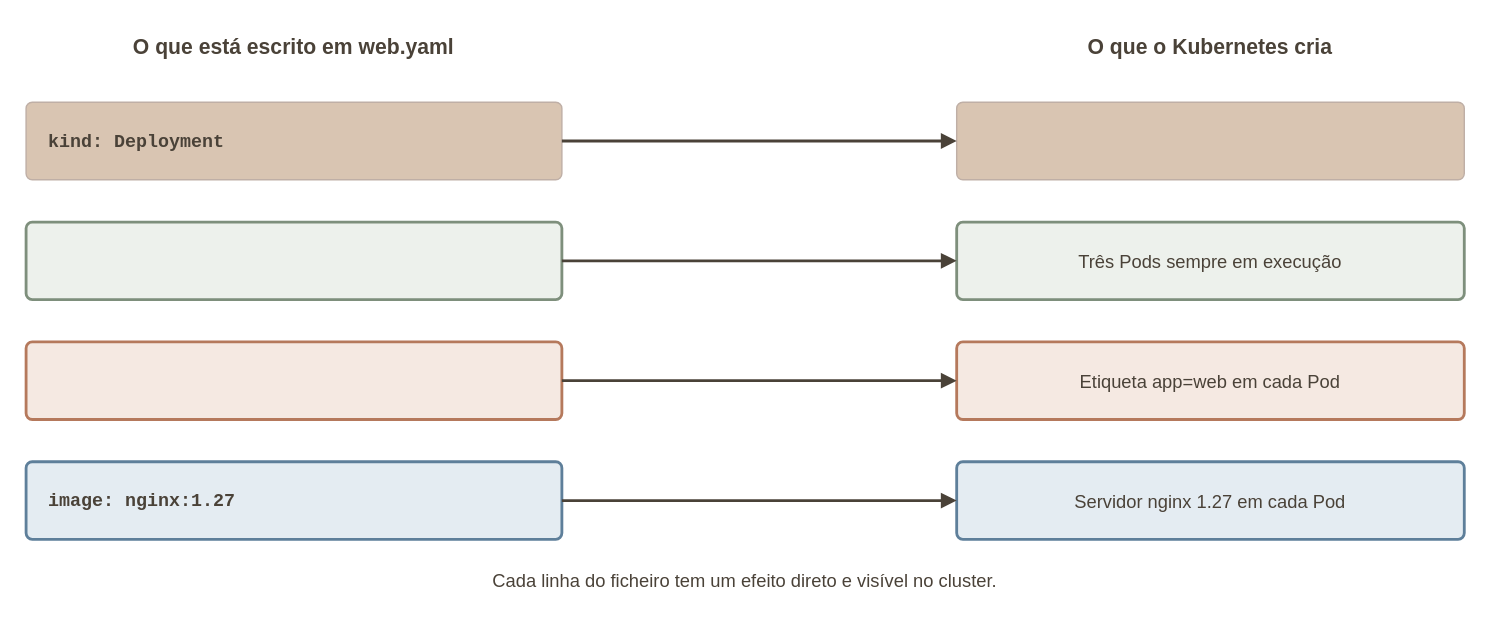
Some shapes in this 1489 by 623 pixel diagram are drawn without their labels. Here are the shapes that lost their labels. From the top down, the box of each, then its label:
(955, 101, 1464, 180): Uma aplicação gerida, chamada web
(24, 220, 563, 300): replicas: 3
(24, 340, 563, 420): app: web
